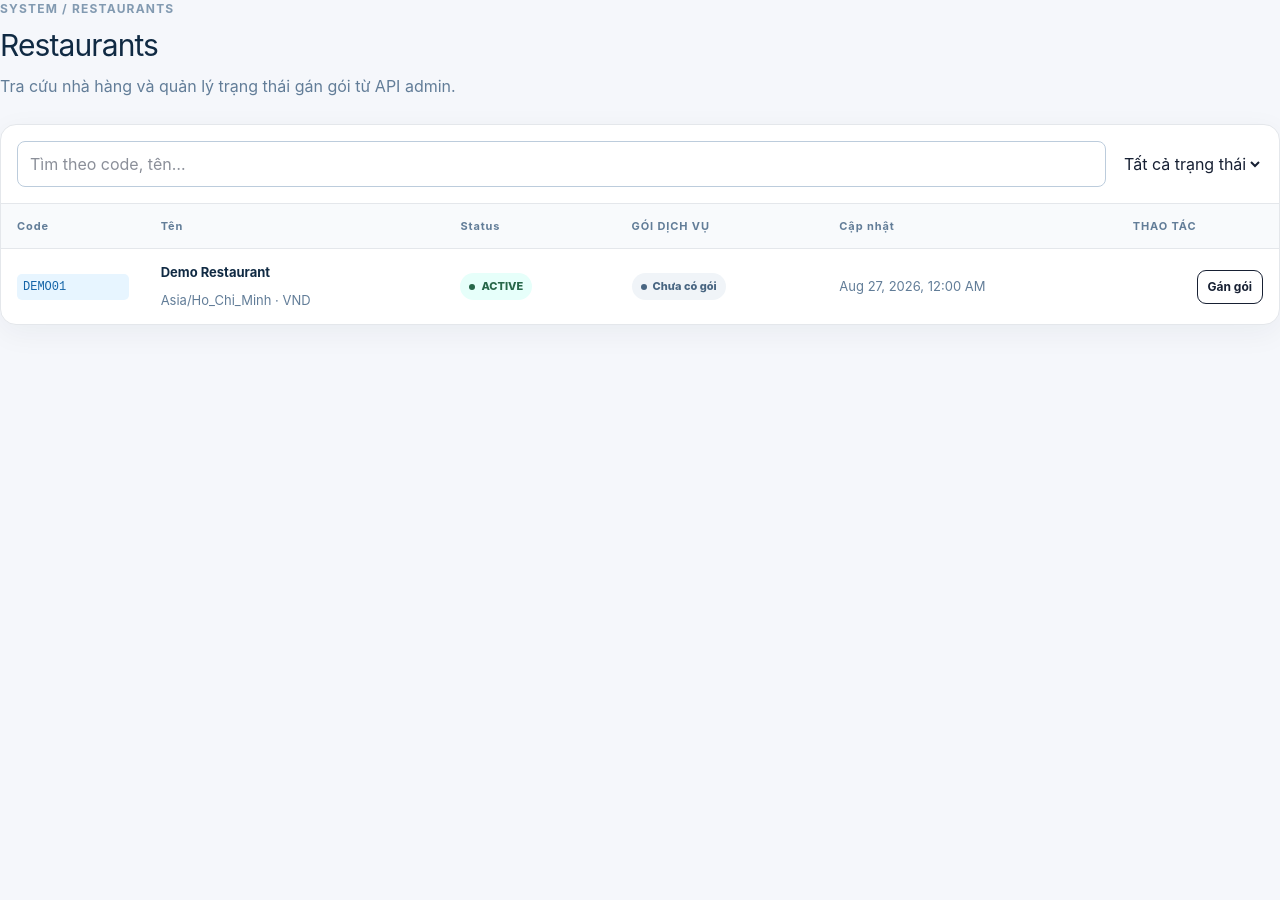
restaurant package assignment actions › shows mapped HTTP 409 SUBSCRIPTION_ALREADY_ACTIVE, refetches, and never shows success
This screenshot has width=1280, height=900.
What coordinates should you click on to do the following:
click the button "Gán gói"
I would click on:
 (1230, 287)
Its box is left=1196, top=270, right=1263, bottom=304.
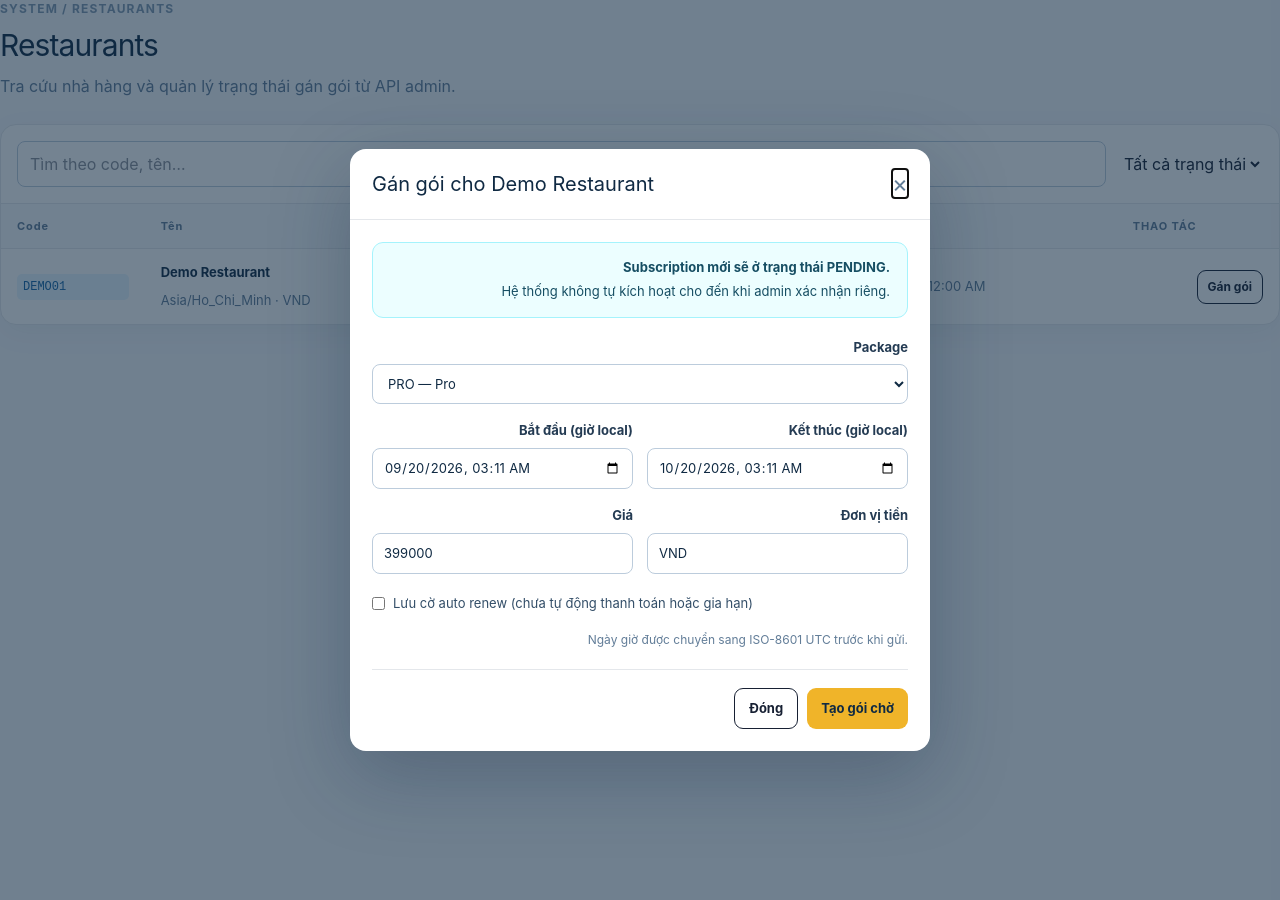
What coordinates should you click on to do the following:
click the button "Tạo gói chờ"
I would click on:
 (858, 709)
Its box is left=807, top=688, right=908, bottom=729.
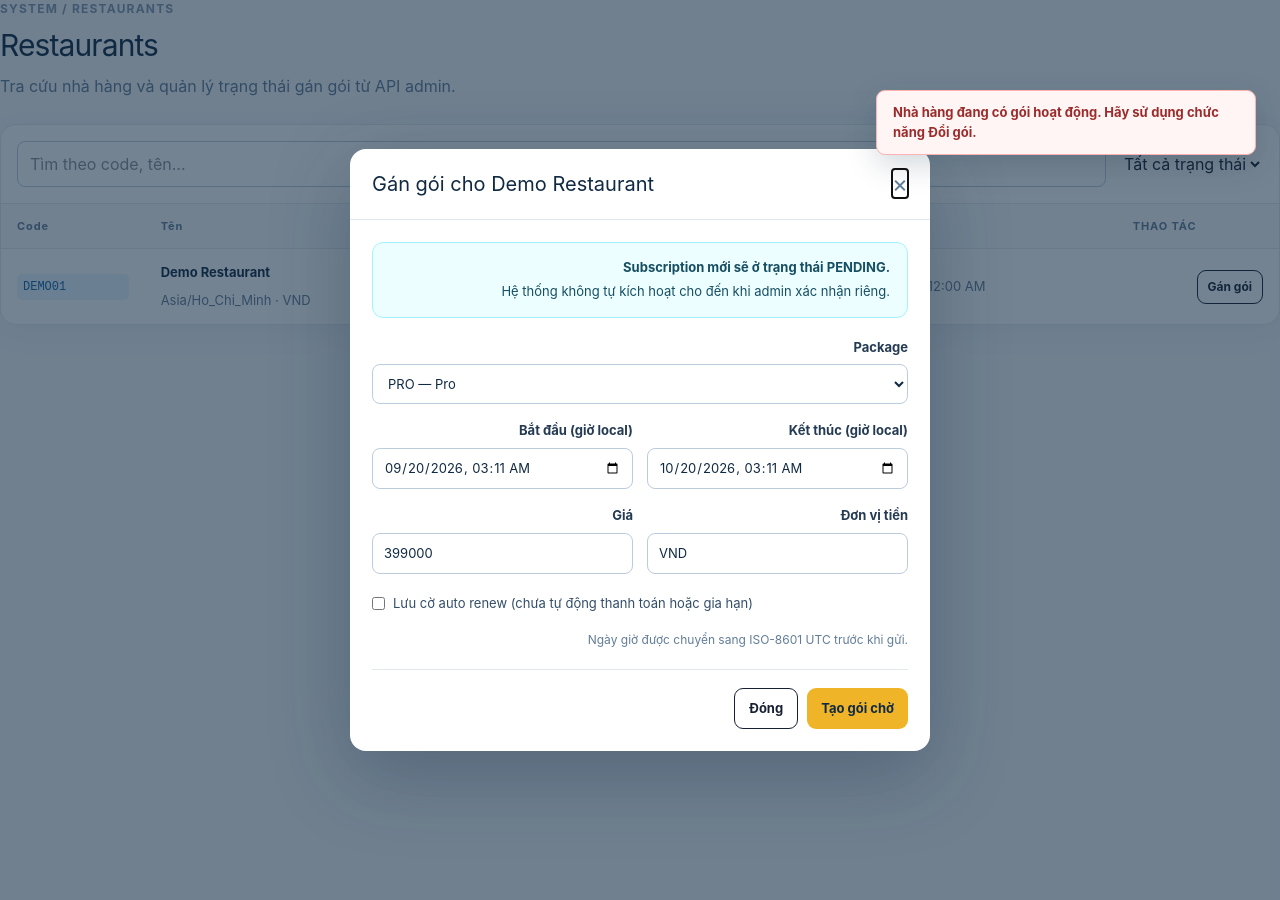
Now the message reads "Nhà hàng đang có gói hoạt động. Hãy sử dụng chức năng Đổi gói.", box left=893, top=104, right=1219, bottom=140
